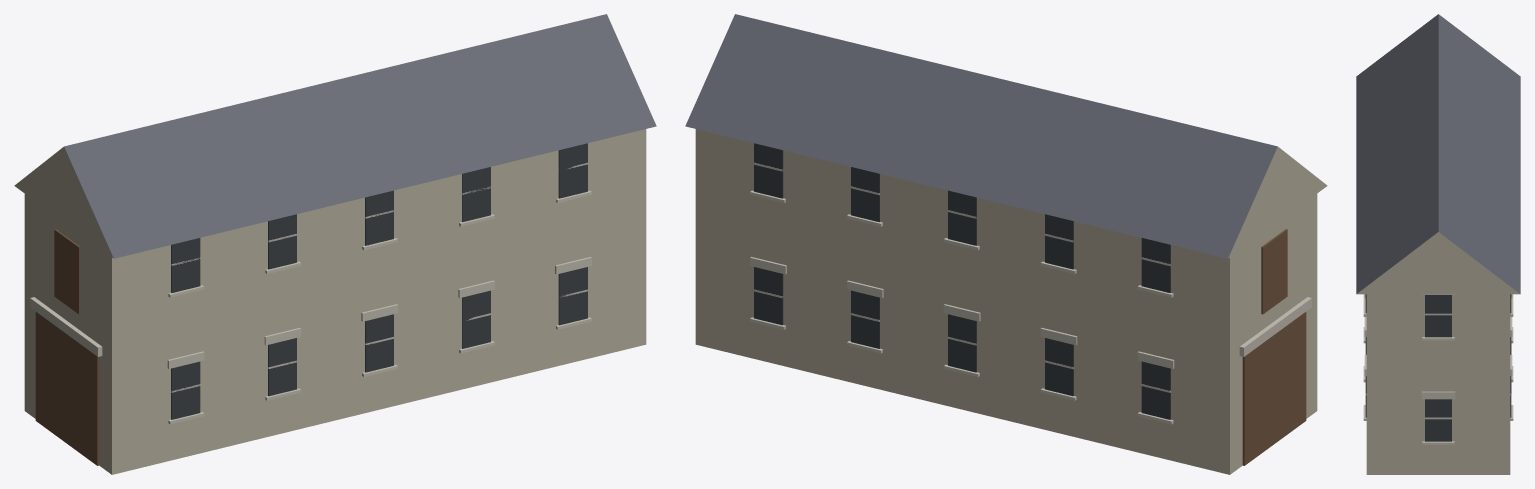
Rendered from house_1921_indiana_coach_house__draft_1904.glb.
3 renders of one model, left to right at view 1: azimuth 30°, elevation 25°; view 2: azimuth 150°, elevation 25°; view 3: azimuth 270°, elevation 25°, orthographic. The views are drawn at different scales.
Parts seen in each view (by area): view 1: house_1921_indiana_coach_house__draft_1904; view 2: house_1921_indiana_coach_house__draft_1904; view 3: house_1921_indiana_coach_house__draft_1904.
Part boxes in pixels (x1,y1,x2,y2): house_1921_indiana_coach_house__draft_1904: (14,14,656,474); house_1921_indiana_coach_house__draft_1904: (685,14,1327,474); house_1921_indiana_coach_house__draft_1904: (1356,14,1520,474).
Bounding box in the file's own units: 15.24 × 7.98 × 4.85.
